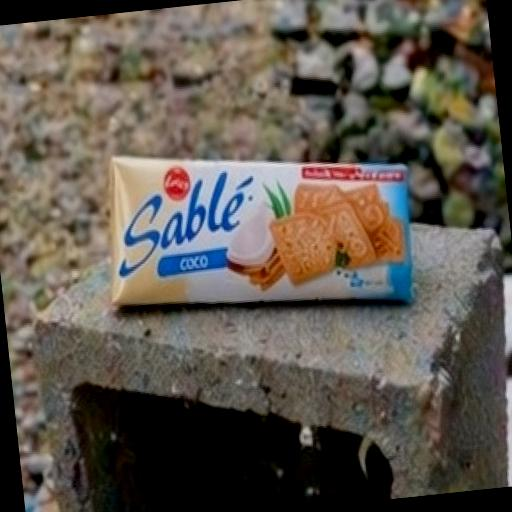sable: (46, 52, 467, 386)
